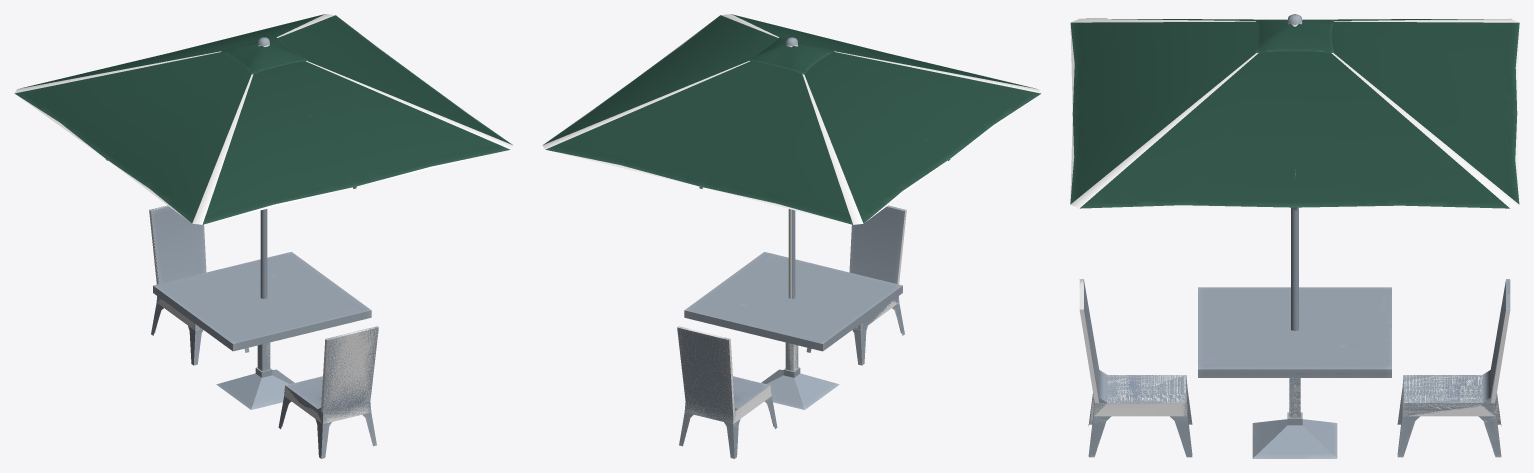
The model's file is objects_un_c01table02.gltf.
3 views of the same model, side by side, from view 1: azimuth 30°, elevation 25°; view 2: azimuth 150°, elevation 25°; view 3: azimuth 270°, elevation 25° (orthographic). The views are drawn at different scales.
Parts seen in each view (by area): view 1: um_objects_un_c01table02_model_lod0Shape:objects_un_c01table (×2); view 2: um_objects_un_c01table02_model_lod0Shape:objects_un_c01table (×2); view 3: um_objects_un_c01table02_model_lod0Shape:objects_un_c01table (×2).
Boxes of the visible parts, bbox=[...] form: um_objects_un_c01table02_model_lod0Shape:objects_un_c01table (×2): bbox=[14, 14, 513, 458]; um_objects_un_c01table02_model_lod0Shape:objects_un_c01table (×2): bbox=[542, 14, 1041, 458]; um_objects_un_c01table02_model_lod0Shape:objects_un_c01table (×2): bbox=[1070, 14, 1519, 458].
Size of what is drawn, in the model's own units: 2.73 by 2.86 by 2.73.
Materials: 2 (1 with a texture image).
